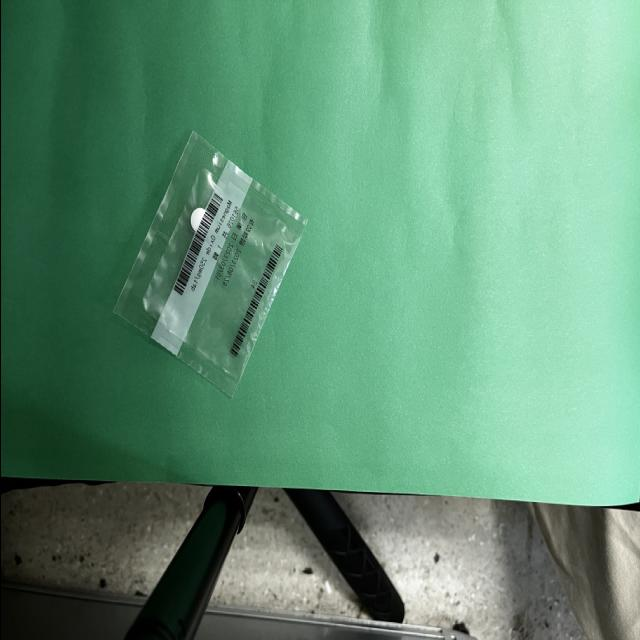Other Objects: (112, 133, 306, 397)
